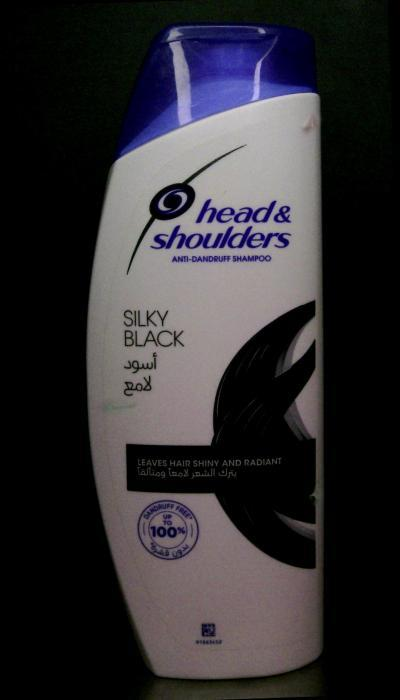tear_unacc: (92, 389, 151, 422), (286, 102, 322, 142)
